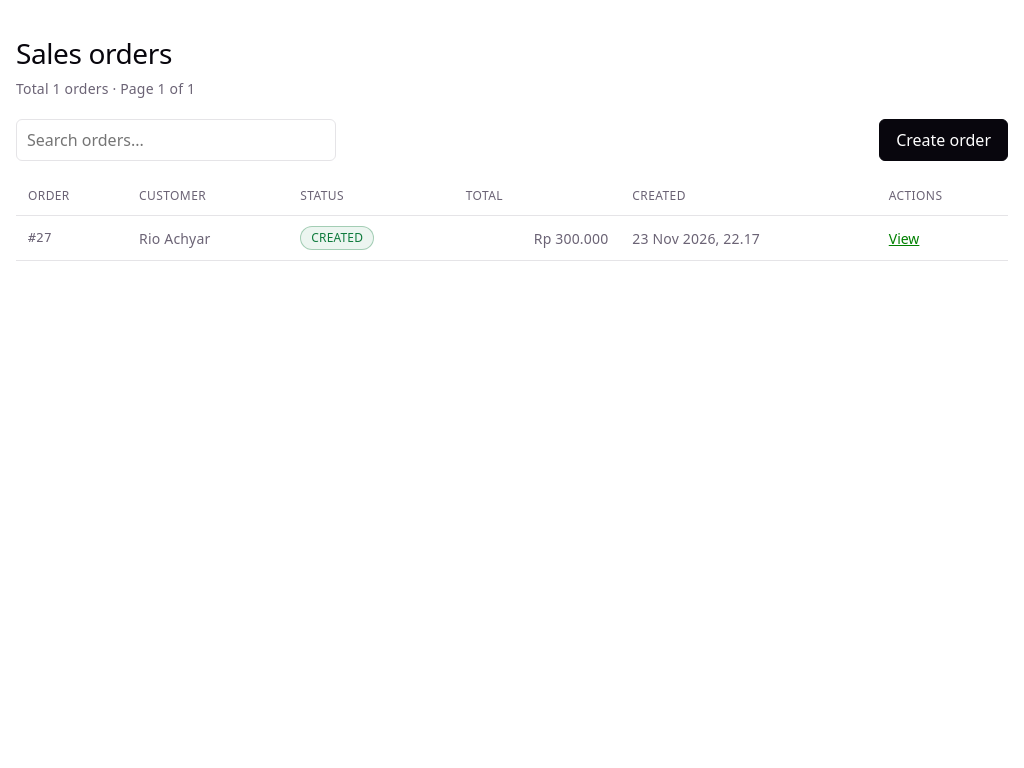
it: OrdersPage › refreshes the order list after a successful creation
The image size is (1024, 768).
Expected: the text "Rio Achyar" is shown, [127, 216, 288, 260]
Click the button "Create order" at (944, 140), box [879, 119, 1008, 161]
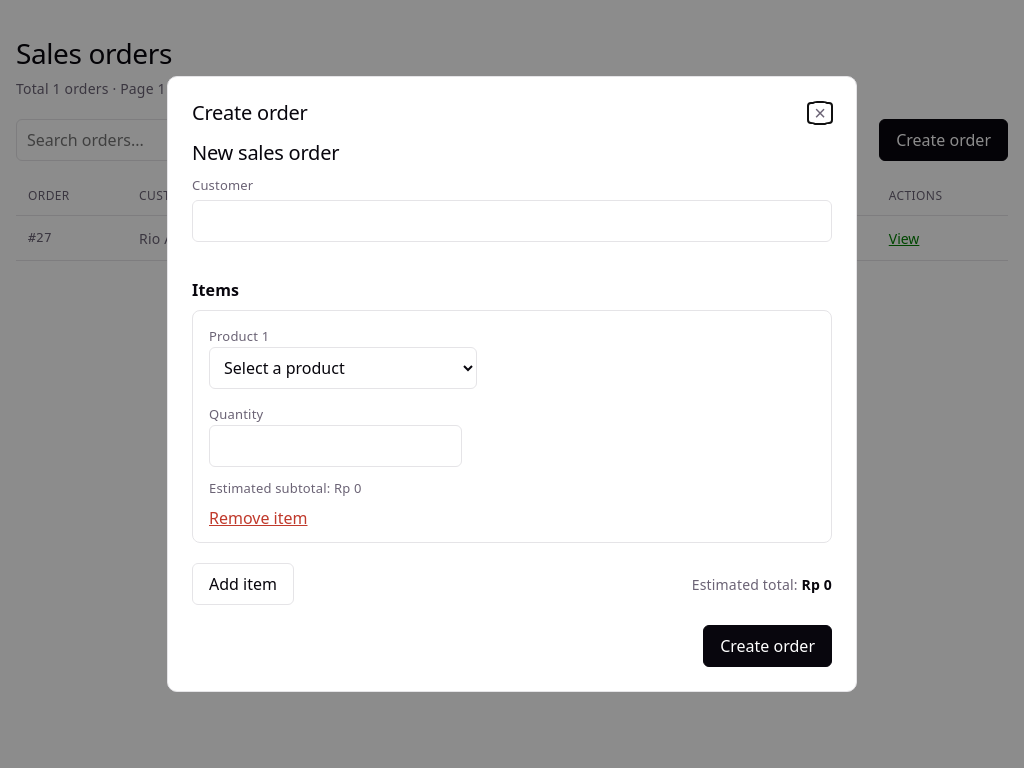
Type "Rio Achyar" into the field labelled "Customer" at (512, 221), box [192, 200, 832, 242]
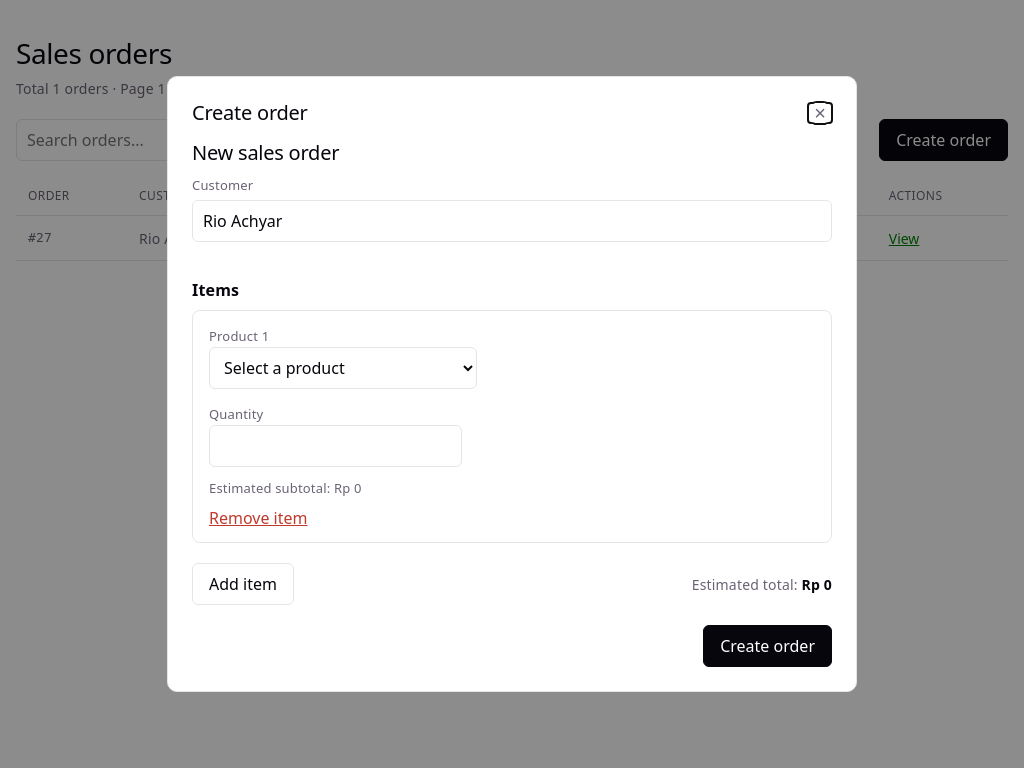
Select "SKU-001 - iCrystal (48 in stock)" in the dropdown labelled "Product 1" at (343, 368), box [209, 347, 477, 389]
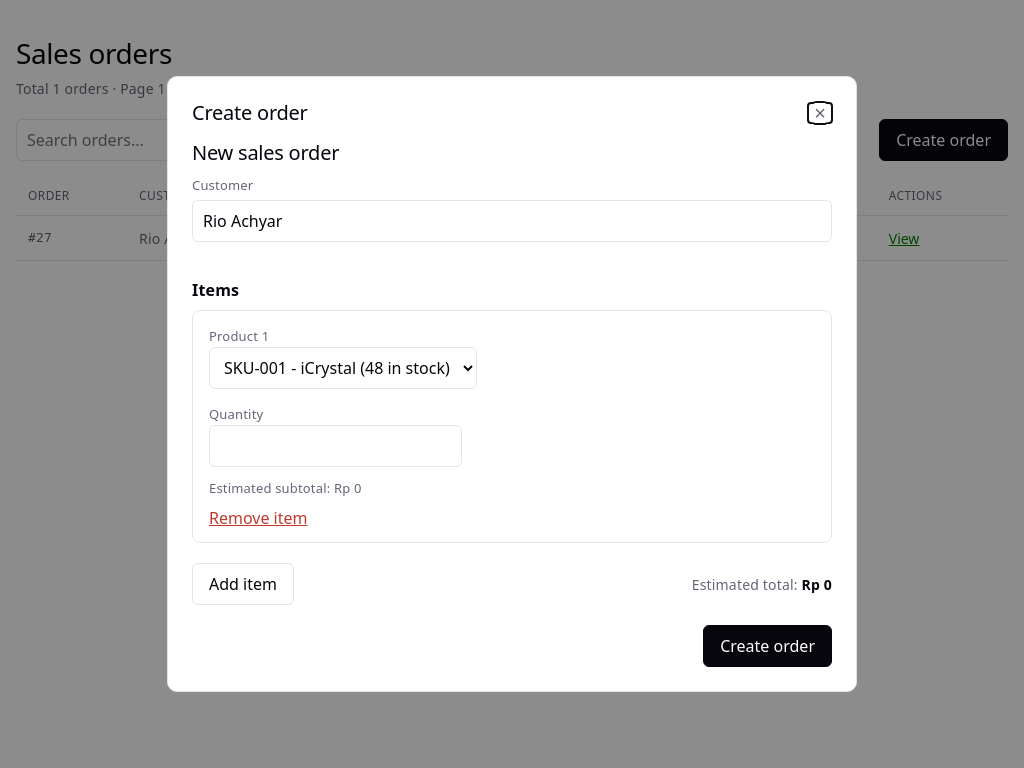
Type "2" into the field labelled "Quantity" at (336, 446), box [209, 425, 462, 467]
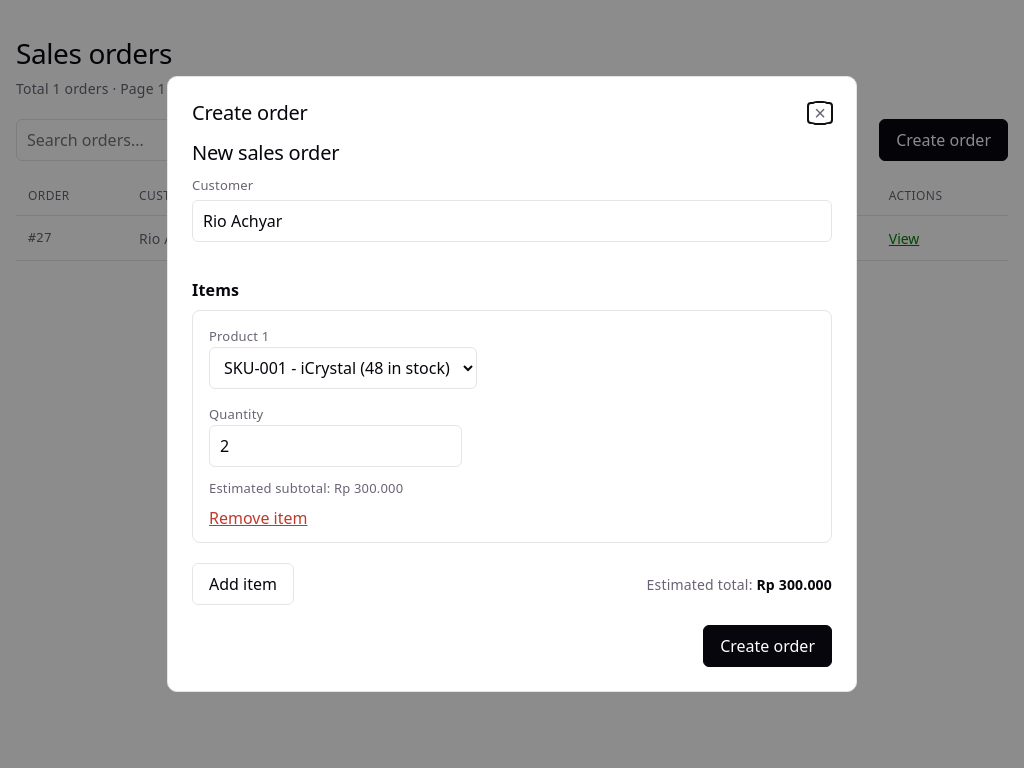
Click the button "Create order" at (768, 646), box [703, 625, 832, 667]
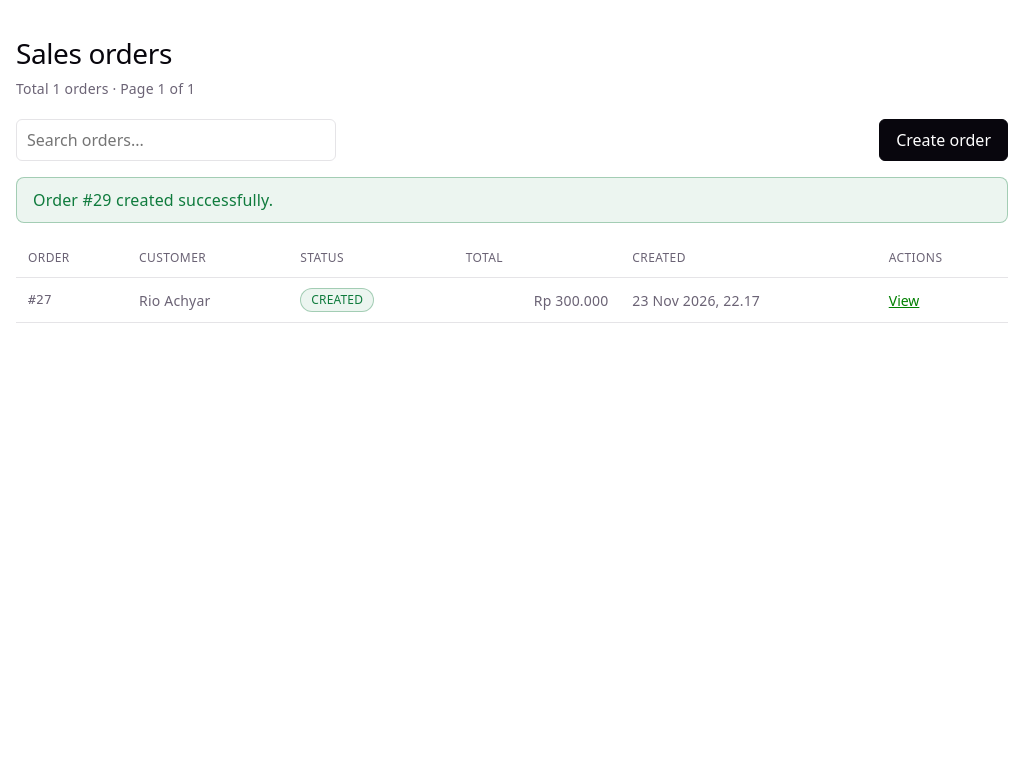
Expected: the text "Order #29 created successfully." is shown, [16, 177, 1008, 223]
